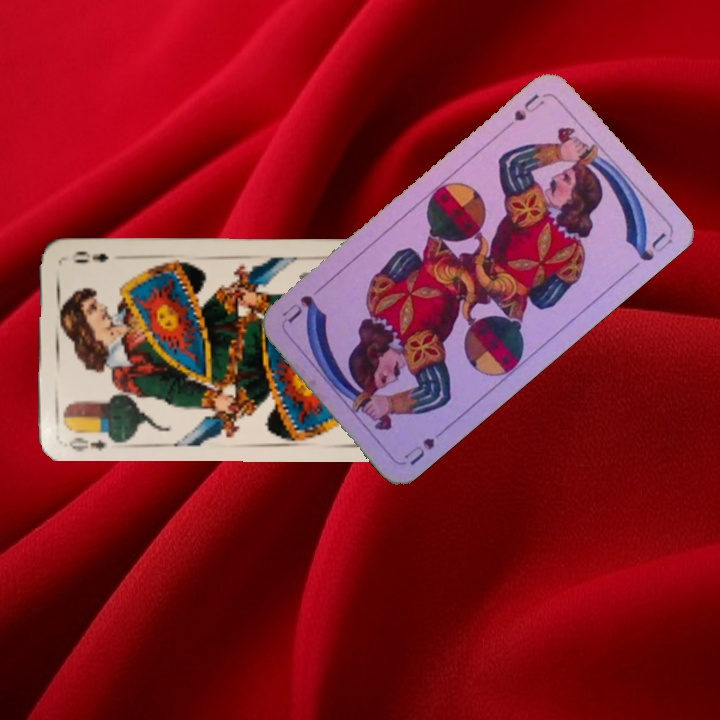EO: (65, 433, 108, 454)
SU: (400, 422, 451, 469), (509, 89, 549, 124)
